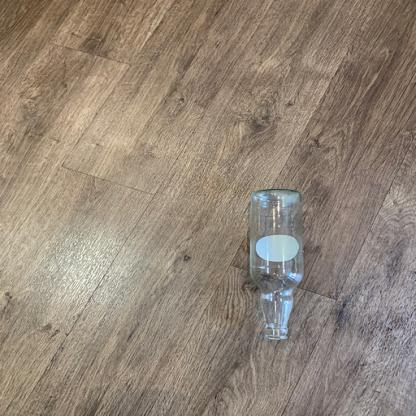trash: (243, 186, 308, 342)
